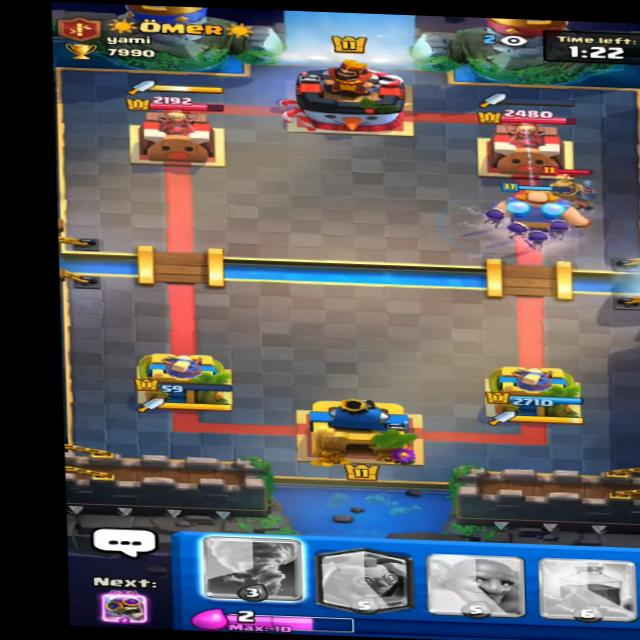prince: (532, 167, 600, 225)
